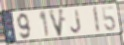1: (39, 10, 51, 39)
5: (101, 6, 117, 32)
9: (16, 12, 32, 40)
I: (93, 6, 102, 34)
J: (70, 9, 82, 35)
V: (47, 8, 65, 39)
